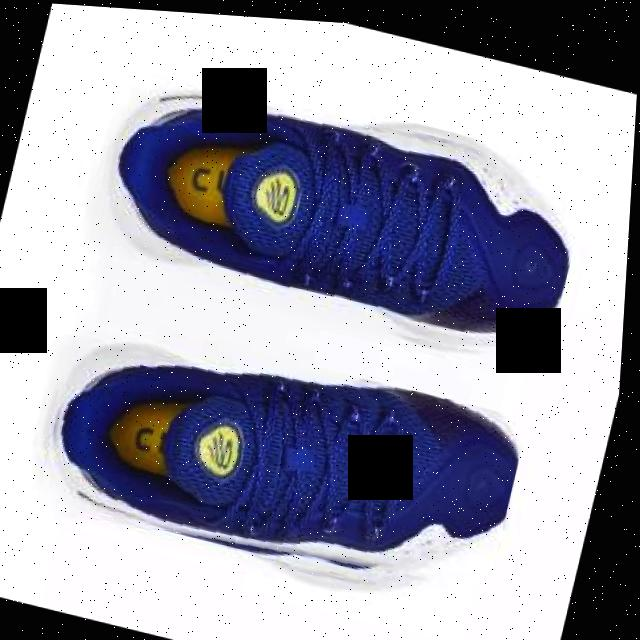shoe: (78, 49, 597, 370), (28, 304, 537, 610)
